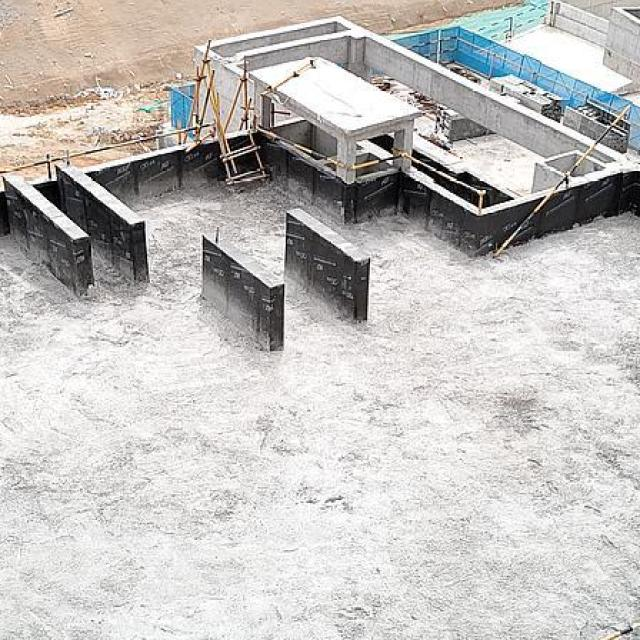edge_guardrail: (406, 29, 631, 125), (493, 105, 631, 259), (0, 121, 216, 179), (348, 148, 486, 212), (255, 126, 344, 168), (476, 2, 548, 44), (260, 63, 314, 97)
